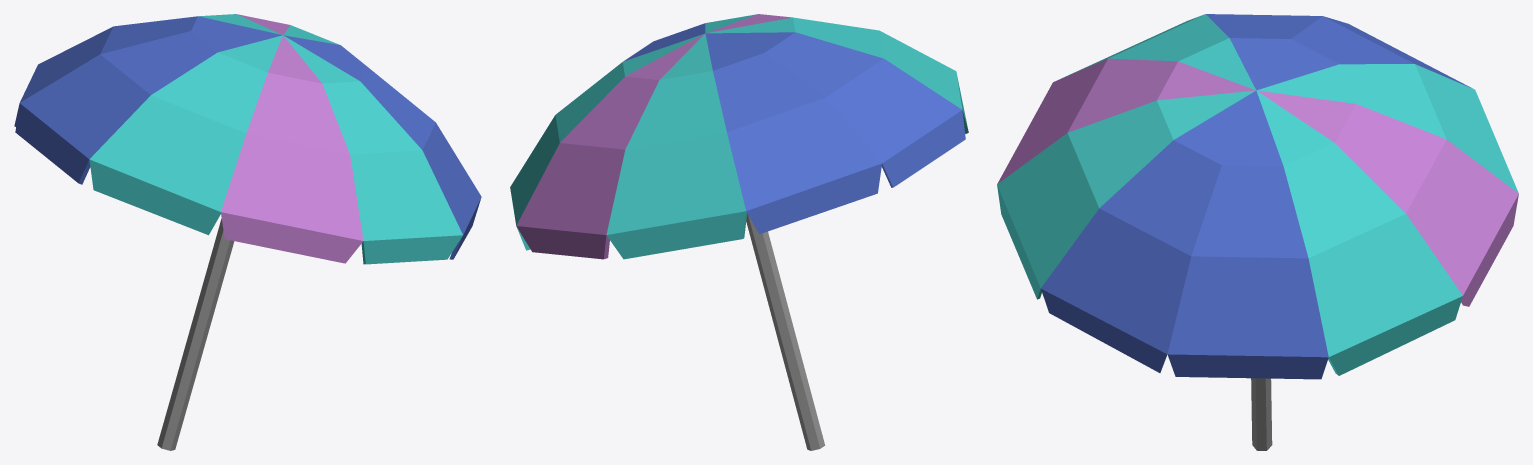
Rendered from Sombrilla1.fbx.
3 renders of one model, left to right at view 1: azimuth 30°, elevation 25°; view 2: azimuth 150°, elevation 25°; view 3: azimuth 270°, elevation 25°, orthographic. The views are drawn at different scales.
Parts seen in each view (by area): view 1: pasted__UMBRELLA1; view 2: pasted__UMBRELLA1; view 3: pasted__UMBRELLA1.
Boxes of the visible parts, x1,y1,x2,y2 form: pasted__UMBRELLA1: (14, 14, 481, 450); pasted__UMBRELLA1: (510, 14, 968, 450); pasted__UMBRELLA1: (997, 14, 1518, 450).
Size of the model in its own units: 1.59 by 1.54 by 1.7.
